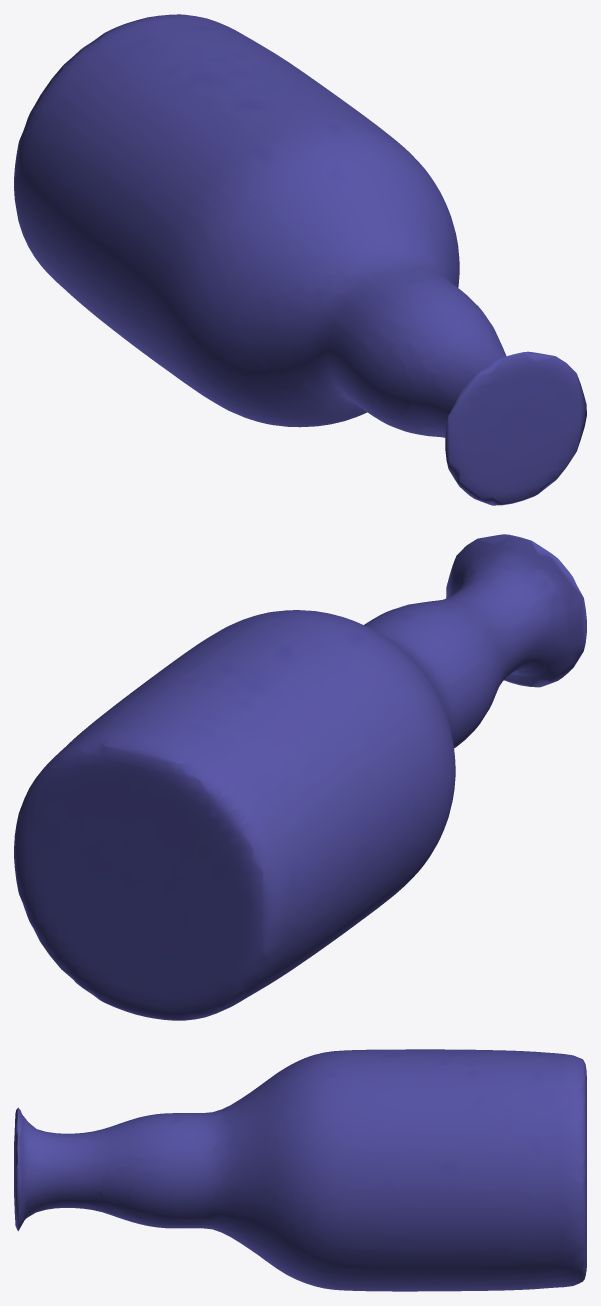
Rendered from a bottle to contain objects.obj.
3 renders of one model, top to bottom at view 1: azimuth 30°, elevation 25°; view 2: azimuth 150°, elevation 25°; view 3: azimuth 270°, elevation 25°, orthographic. The views are drawn at different scales.
Bounding box in the file's own units: 0.4249 × 0.4226 × 1.
